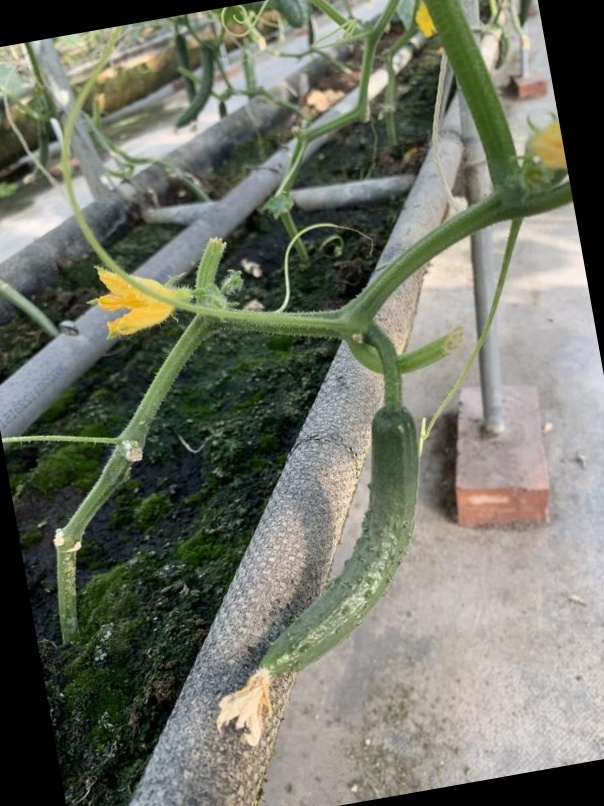bud: (86, 262, 187, 324)
growth: (228, 400, 428, 706)
